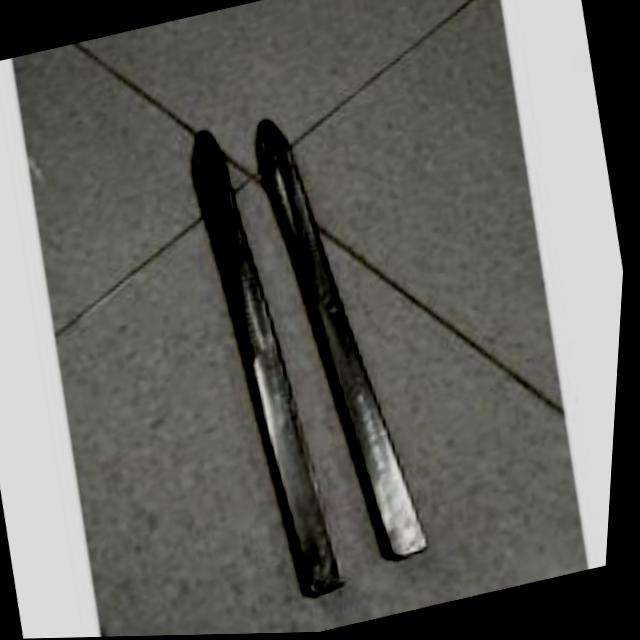crow bar: (215, 62, 482, 594), (145, 64, 384, 628)
